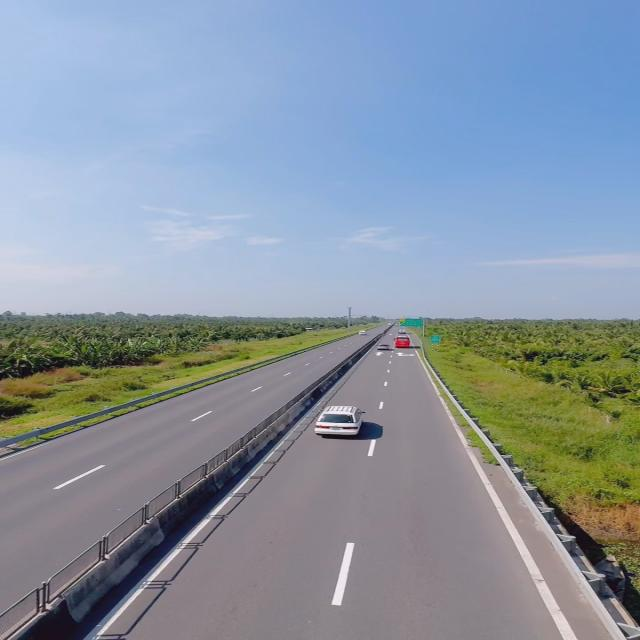car: (315, 404, 368, 440)
